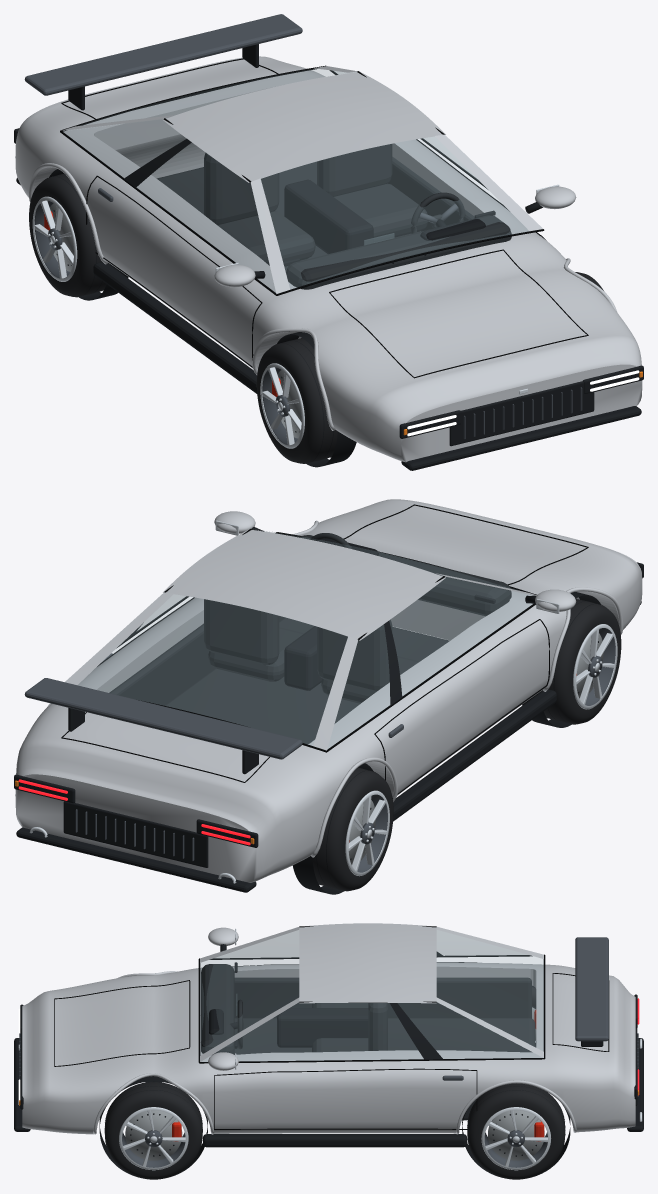
File: falcon.glb
3 views of the same model, one above another, from view 1: azimuth 30°, elevation 25°; view 2: azimuth 150°, elevation 25°; view 3: azimuth 270°, elevation 25° (orthographic). The views are drawn at different scales.
Visible parts, largest first — view 1: Sculpted body shell.020, Windshield.020, Painted roof.020, Side glass.040, Rear aero wing.006, Interior dashboard.020, Tire.082, Front grille housing.020, Interior centre console.020, Tire.080, Rocker aero sill.040, Interior seat back.066 (+28 smaller); view 2: Sculpted body shell.020, Rear glass.020, Painted roof.020, Side glass.040, Interior cabin floor.020, Rear aero wing.006, Rear diffuser grille.020, Tire.080, Interior seat back.067, Interior door card.041, Tire.082, Rocker aero sill.040 (+26 smaller); view 3: Sculpted body shell.020, Side glass.041, Painted roof.020, Rear glass.020, Windshield.020, Interior door card.040, Interior cabin floor.020, Tire.083, Tire.081, Rocker aero sill.041, Rear aero wing.006, Interior centre console.020 (+29 smaller).
Boxes of the visible parts, x1,y1,x2,y2 form: Sculpted body shell.020: (15, 56, 642, 462); Windshield.020: (261, 137, 528, 288); Painted roof.020: (170, 73, 437, 179); Side glass.040: (63, 120, 275, 292); Rear aero wing.006: (24, 14, 302, 95); Interior dashboard.020: (286, 215, 511, 289); Tire.082: (256, 338, 337, 463); Front grille housing.020: (449, 381, 594, 446); Interior centre console.020: (284, 179, 373, 254); Tire.080: (29, 173, 109, 296); Rocker aero sill.040: (93, 262, 257, 393); Interior seat back.066: (204, 152, 279, 224); Sculpted body shell.020: (15, 499, 642, 882); Rear glass.020: (78, 594, 347, 745); Painted roof.020: (171, 530, 438, 637); Side glass.040: (328, 577, 532, 748); Interior cabin floor.020: (165, 617, 449, 744); Rear aero wing.006: (24, 678, 302, 759); Rear diffuser grille.020: (63, 801, 208, 867); Tire.080: (312, 767, 393, 891); Interior seat back.067: (204, 599, 279, 665); Interior door card.041: (109, 616, 285, 705); Tire.082: (540, 599, 621, 724); Rocker aero sill.040: (393, 689, 556, 821); Sculpted body shell.020: (22, 962, 635, 1134); Side glass.041: (202, 1003, 541, 1061); Painted roof.020: (299, 924, 436, 1002); Rear glass.020: (437, 930, 543, 1050); Windshield.020: (200, 930, 298, 1054); Interior door card.040: (234, 977, 531, 1018); Interior cabin floor.020: (234, 1018, 535, 1054); Tire.083: (104, 1081, 202, 1179); Tire.081: (467, 1083, 565, 1179); Rocker aero sill.041: (203, 1134, 467, 1147); Rear aero wing.006: (575, 937, 608, 1041); Interior centre console.020: (277, 1008, 368, 1047).
Size of the model in its own units: 2.34 by 1.32 by 4.49.
